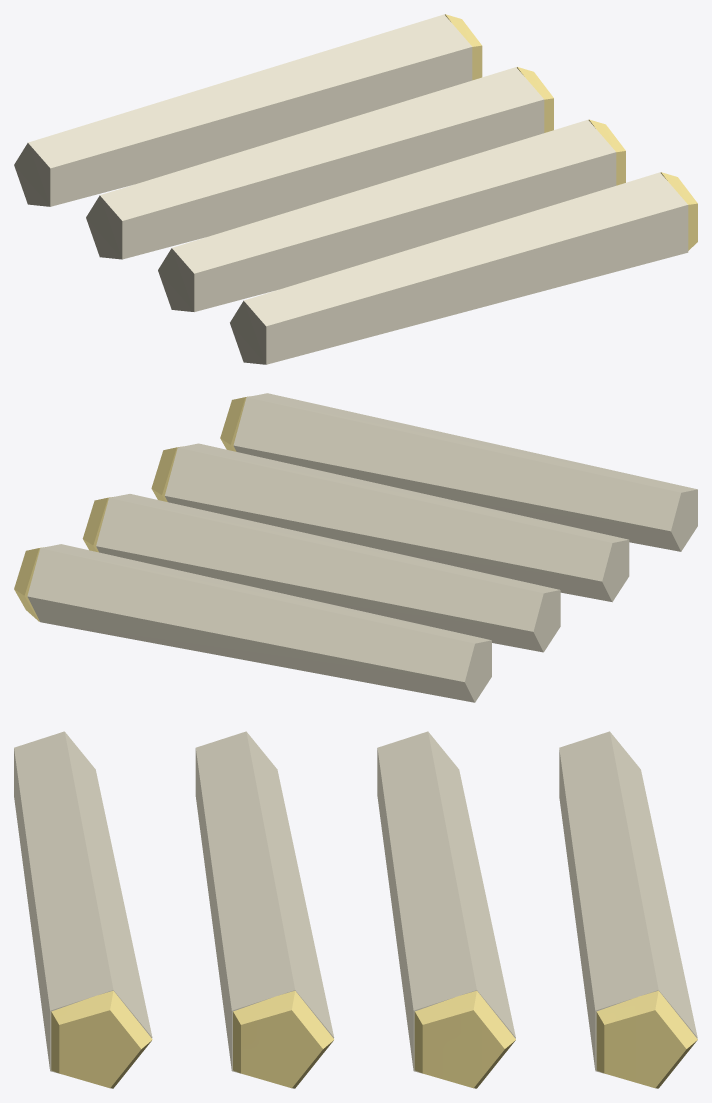
File: drug_joints.obj
3 views of the same model, one above another, from view 1: azimuth 30°, elevation 25°; view 2: azimuth 150°, elevation 25°; view 3: azimuth 270°, elevation 25° (orthographic). The views are drawn at different scales.
Parts seen in each view (by area): view 1: drug_joints; view 2: drug_joints; view 3: drug_joints.
Part boxes in pixels (x1,y1,x2,y2): drug_joints: (14, 14, 697, 364); drug_joints: (14, 393, 697, 702); drug_joints: (14, 731, 697, 1088).
Size of the model in its own units: 0.2914 by 0.0476 by 0.3011.
